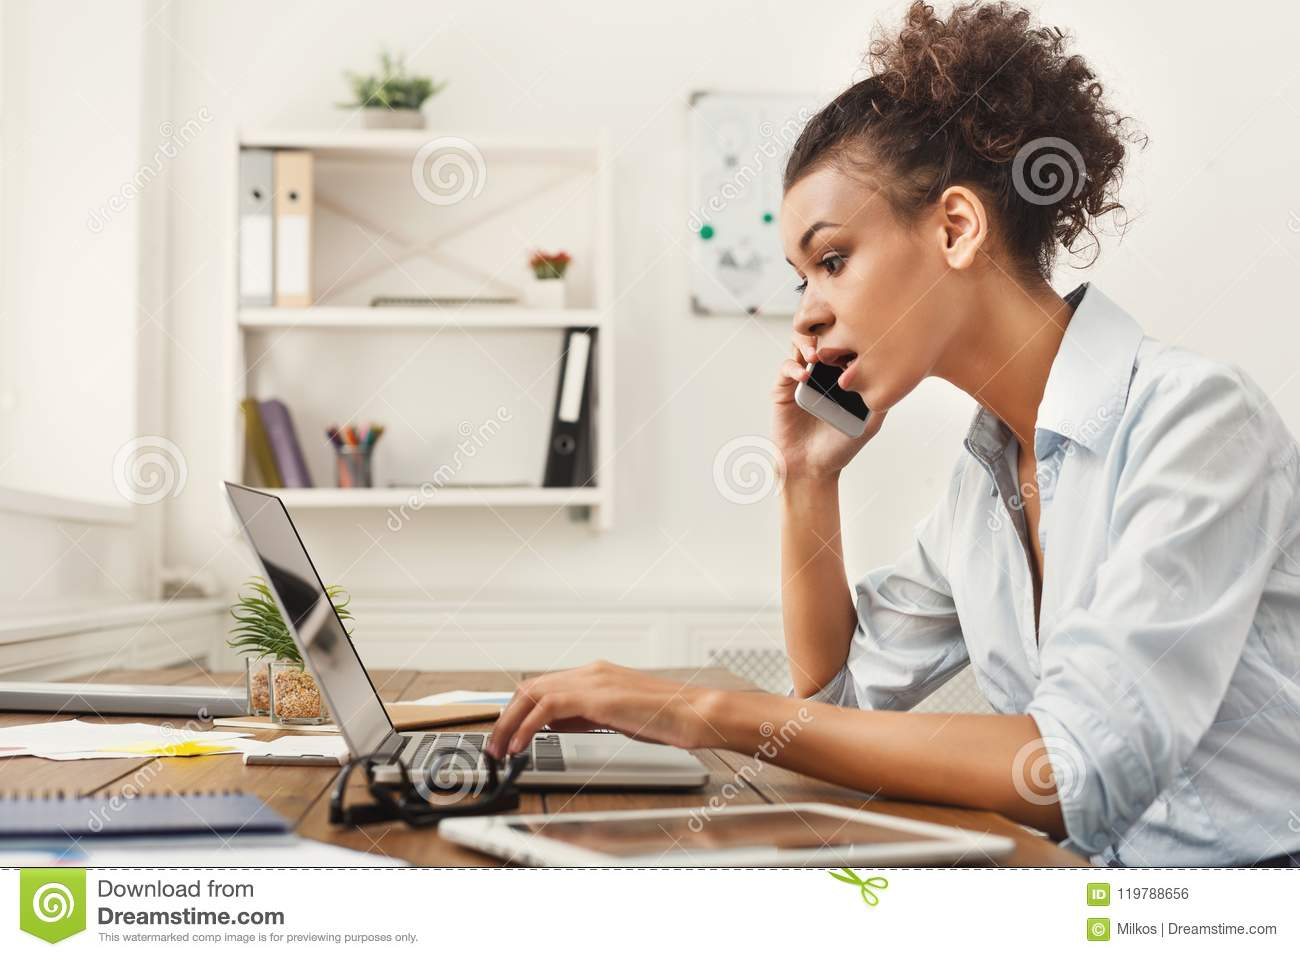phone: (796, 362, 875, 444)
talk: (767, 217, 906, 478)
